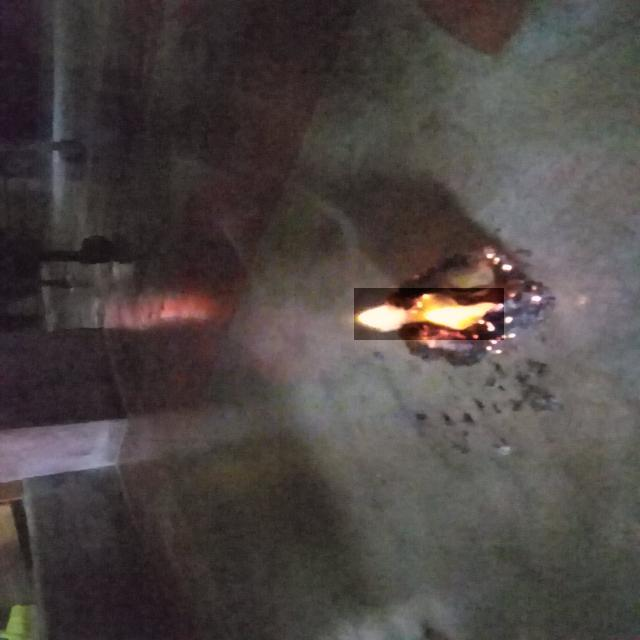Fire: (354, 288, 504, 340)
